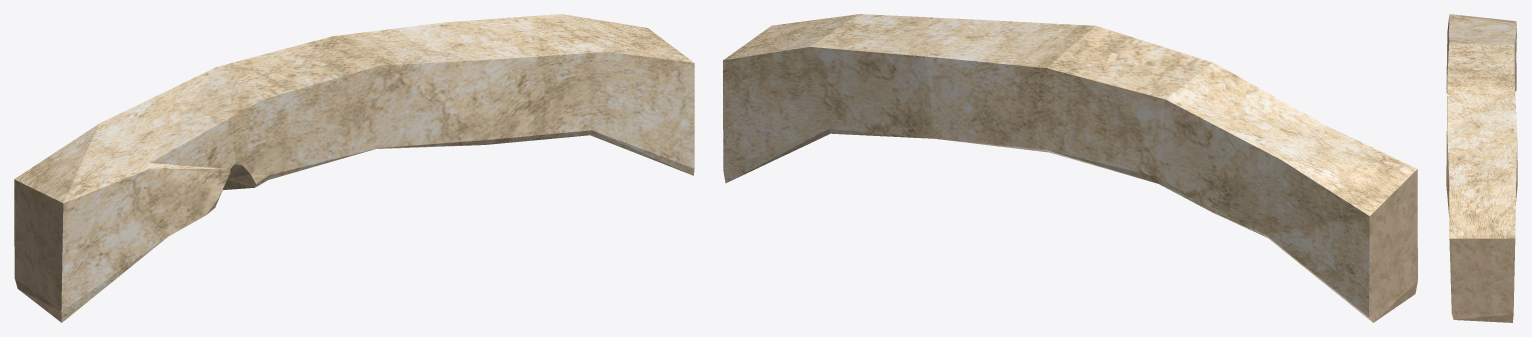
File: thm_tato_imprv_over_beam_s02_l1.fbx
The picture shows the model from 3 angles, left to right: view 1: azimuth 30°, elevation 25°; view 2: azimuth 150°, elevation 25°; view 3: azimuth 270°, elevation 25°; orthographic projection. The views are drawn at different scales.
Visible parts, largest first — view 1: mesh_node; view 2: mesh_node; view 3: mesh_node.
Part boxes in pixels (x1,y1,x2,y2): mesh_node: (14, 14, 694, 322); mesh_node: (723, 14, 1417, 322); mesh_node: (1446, 14, 1517, 322).
Bounding box in the file's own units: 8.23 × 2.44 × 1.15.
2 materials, 2 textured.
